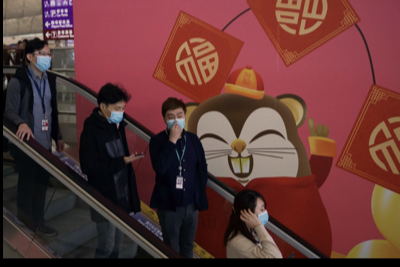with_mask: (31, 48, 53, 71), (166, 109, 187, 133), (105, 103, 127, 124), (254, 203, 270, 227)
